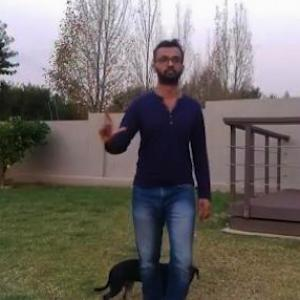land_hand: (94, 100, 128, 144)
